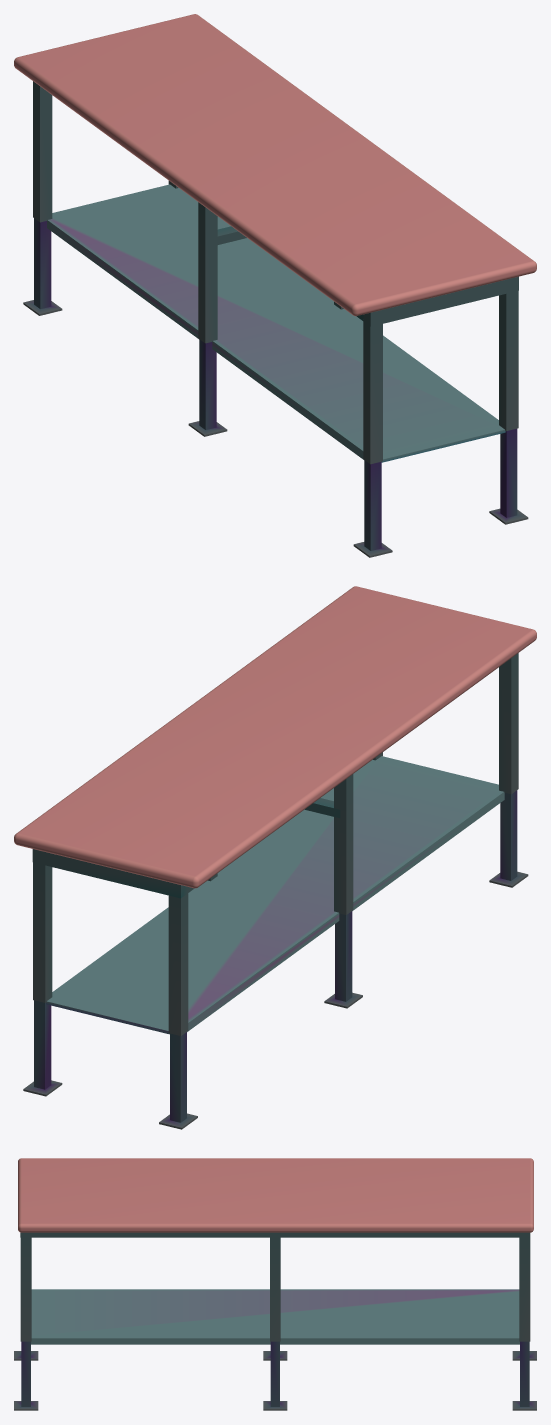
Rendered from simready-table_packing_heavyduty_c02.glb.
3 renders of one model, top to bottom at view 1: azimuth 30°, elevation 25°; view 2: azimuth 150°, elevation 25°; view 3: azimuth 270°, elevation 25°, orthographic. The views are drawn at different scales.
Visible parts, largest first — view 1: top, shelf_panel, foot.001, foot, foot.005, foot.003, cross_rail.001; view 2: top, shelf_panel, foot.005, foot.004, foot.001, foot.003, cross_rail.003; view 3: top, shelf_panel, long_rail, foot, foot.004, foot.002.
Part boxes in pixels (bbox=[...]): top: bbox=[14, 14, 536, 316]; shelf_panel: bbox=[47, 184, 505, 462]; foot.001: bbox=[353, 319, 392, 557]; foot: bbox=[489, 291, 528, 524]; foot.005: bbox=[23, 81, 62, 315]; foot.003: bbox=[188, 202, 227, 436]; cross_rail.001: bbox=[363, 276, 518, 326]; top: bbox=[14, 586, 536, 888]; shelf_panel: bbox=[46, 756, 504, 1034]; foot.005: bbox=[159, 891, 197, 1129]; foot.004: bbox=[23, 862, 62, 1096]; foot.001: bbox=[489, 653, 528, 887]; foot.003: bbox=[324, 774, 362, 1008]; cross_rail.003: bbox=[32, 849, 187, 898]; top: bbox=[18, 1158, 533, 1232]; shelf_panel: bbox=[31, 1289, 519, 1344]; long_rail: bbox=[31, 1232, 519, 1237]; foot: bbox=[14, 1236, 38, 1410]; foot.004: bbox=[512, 1236, 536, 1410]; foot.002: bbox=[263, 1237, 287, 1410].
Bounding box in the file's own units: 0.7611 × 0.9925 × 2.47.
